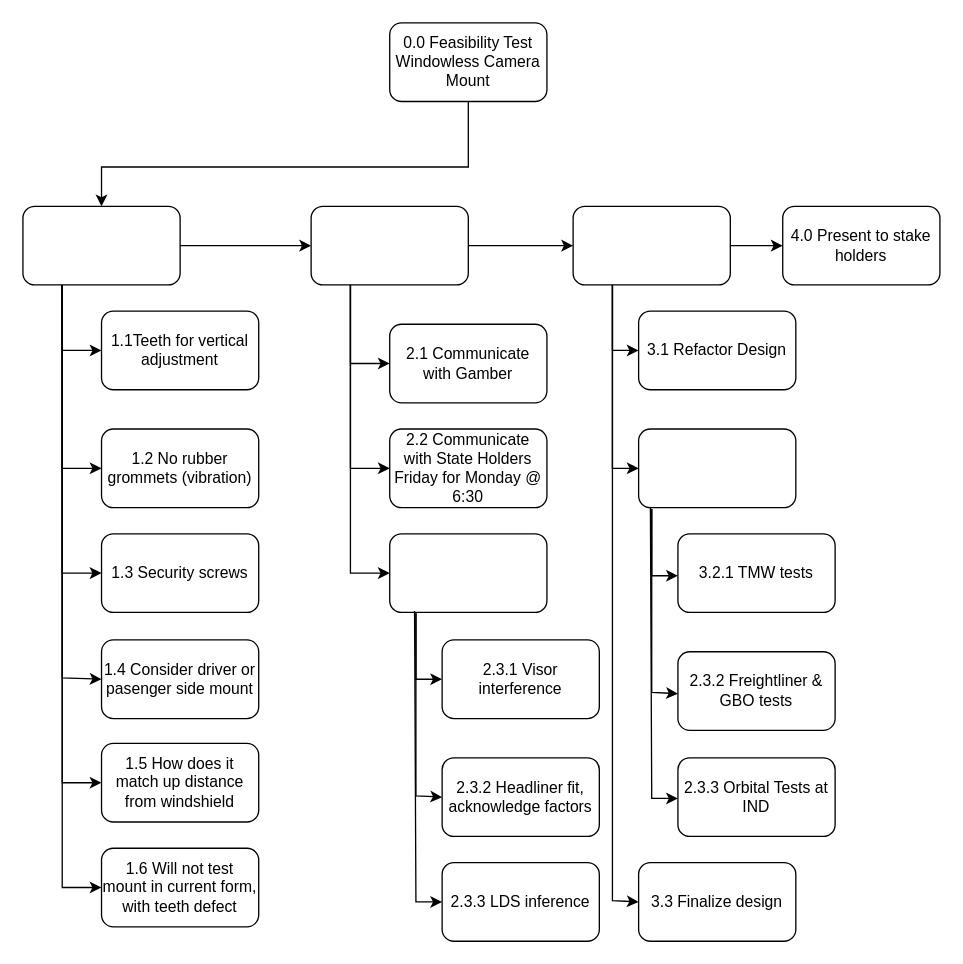
This 963x964 diagram has some shape labels left out. The shapes that lost their labels are listed below. From the top down, each one's box as (x1, y1, x2, y2) in pixels, then its label:
(22, 205, 180, 285): 1.0Preliminary Design Review
(310, 205, 468, 285): 2.0 Refactor design mock-up
(572, 205, 730, 285): 3.0 Execute Test Plan
(637, 428, 796, 508): 3.2 Retest Defect(s)
(388, 533, 547, 612): 2.3 Formalize Test Plan
